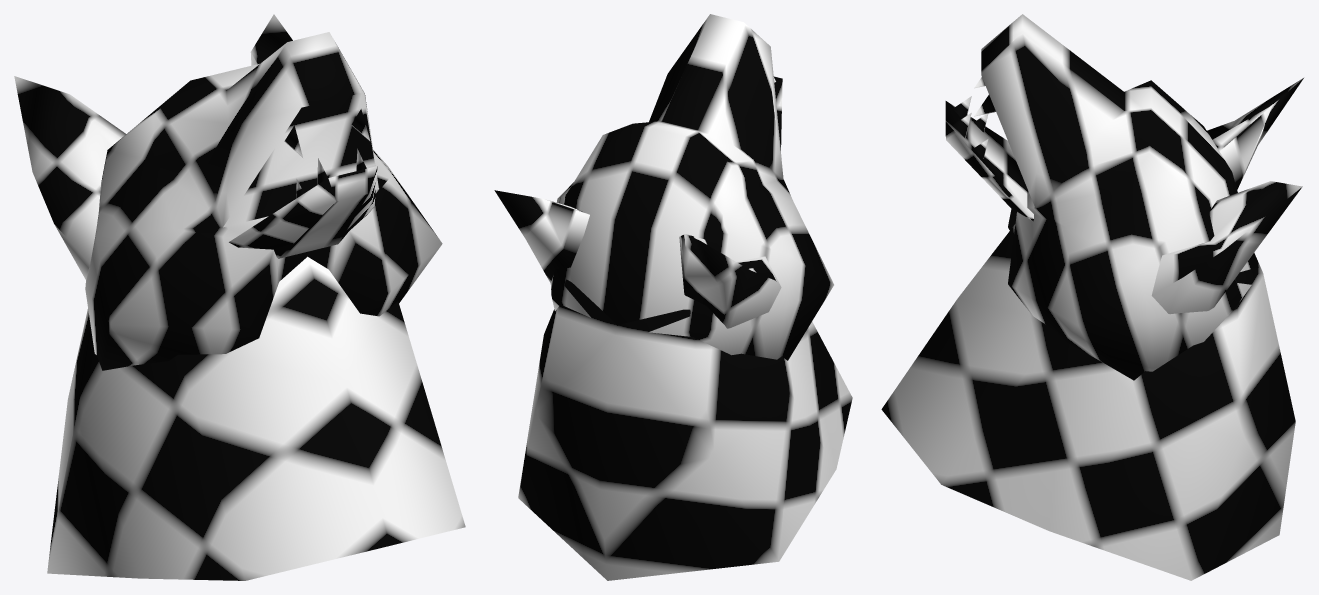
File: infaunanwiwo.dae
The picture shows the model from 3 angles, left to right: view 1: azimuth 30°, elevation 25°; view 2: azimuth 150°, elevation 25°; view 3: azimuth 270°, elevation 25°; orthographic projection. The views are drawn at different scales.
Parts seen in each view (by area): view 1: face; view 2: face; view 3: face.
Part boxes in pixels (x1,y1,x2,y2): face: (14, 14, 465, 580); face: (494, 14, 852, 580); face: (881, 14, 1303, 580).
Bounding box in the file's own units: 1.22 × 1.57 × 2.1.
1 material, 1 textured.
